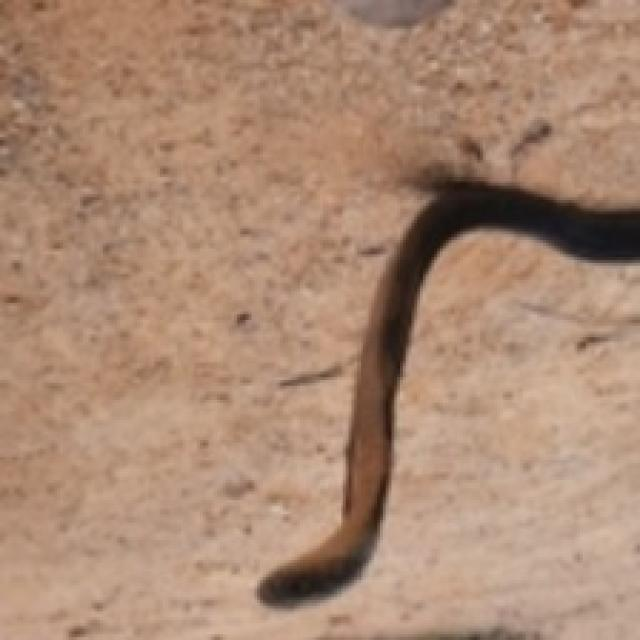king cobra: (257, 180, 637, 606)
